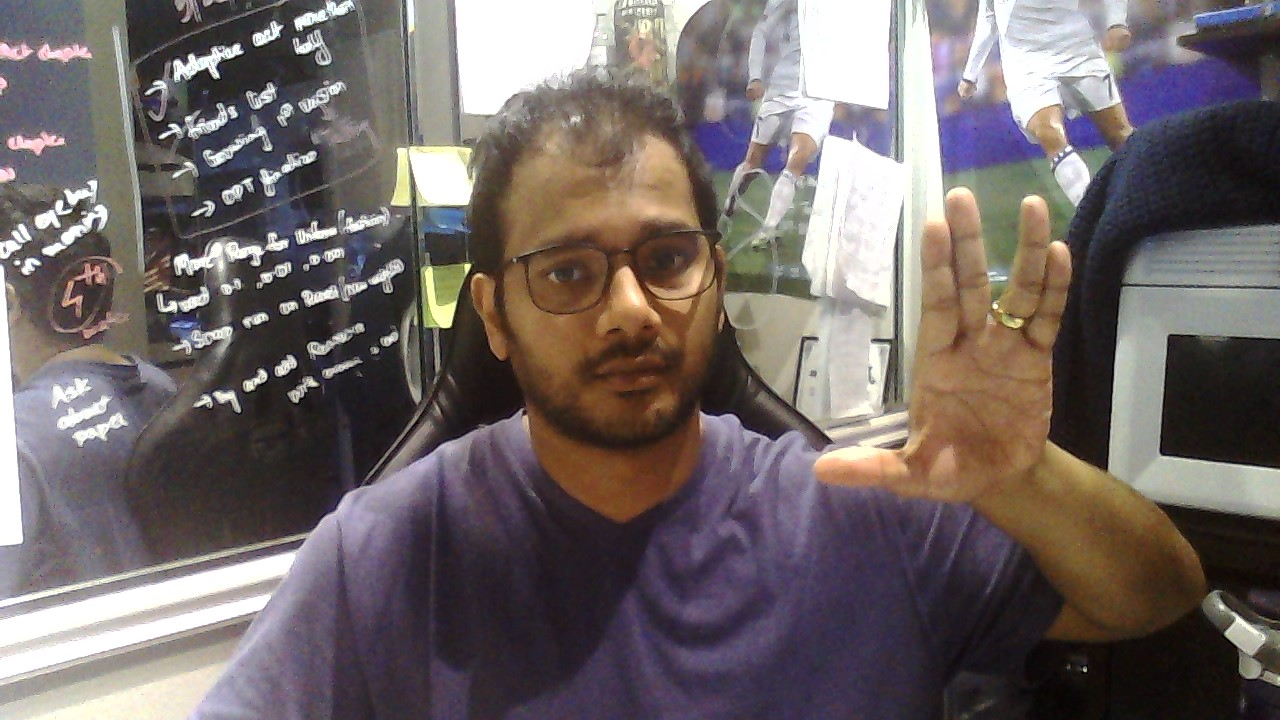LiveLong: (812, 187, 1074, 503)
